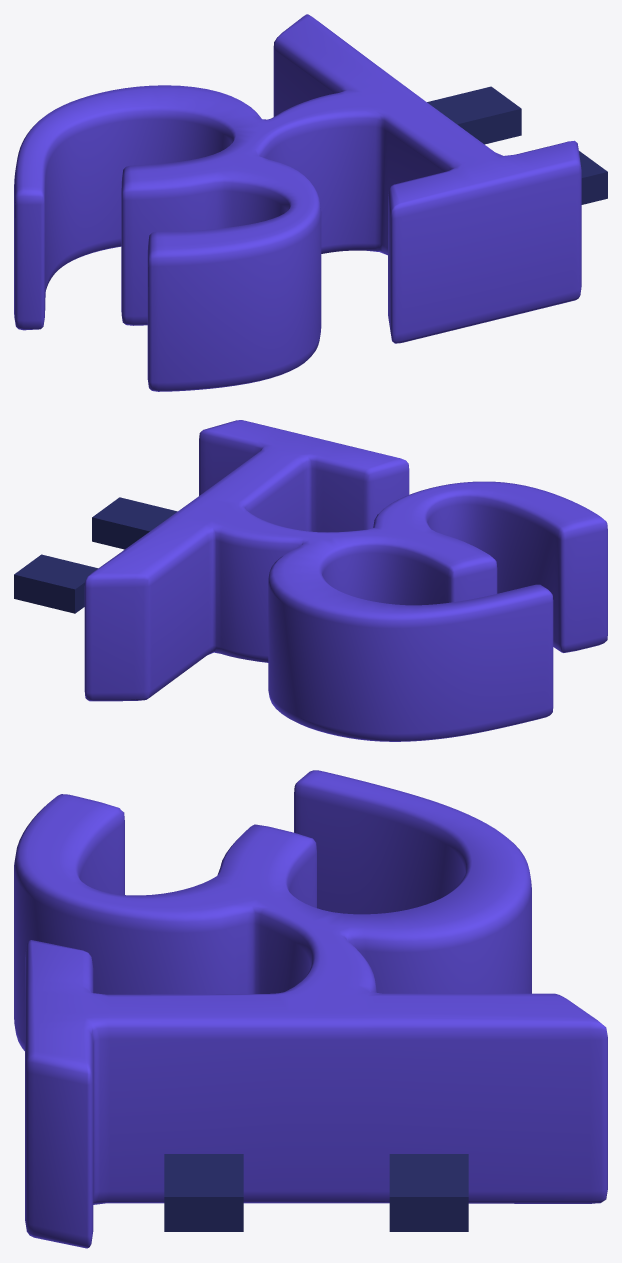
The picture shows the model from 3 angles, top to bottom: view 1: azimuth 30°, elevation 25°; view 2: azimuth 150°, elevation 25°; view 3: azimuth 270°, elevation 25°; orthographic projection. The views are drawn at different scales.
Parts seen in each view (by area): view 1: 3D_Alphabets_Hindi_Language_02, Cube.001, Cube; view 2: 3D_Alphabets_Hindi_Language_02, Cube.001, Cube; view 3: 3D_Alphabets_Hindi_Language_02, Cube, Cube.001.
Boxes of the visible parts, box(x1,y1,x2,y2) form: 3D_Alphabets_Hindi_Language_02: box(14, 14, 581, 391); Cube.001: box(427, 86, 521, 144); Cube: box(579, 151, 607, 204); 3D_Alphabets_Hindi_Language_02: box(84, 420, 607, 741); Cube.001: box(14, 554, 97, 613); Cube: box(92, 497, 177, 549); 3D_Alphabets_Hindi_Language_02: box(14, 770, 607, 1248); Cube: box(164, 1154, 243, 1231); Cube.001: box(389, 1154, 468, 1231).
Bounding box in the file's own units: 0.8468 × 0.2129 × 0.6235.
